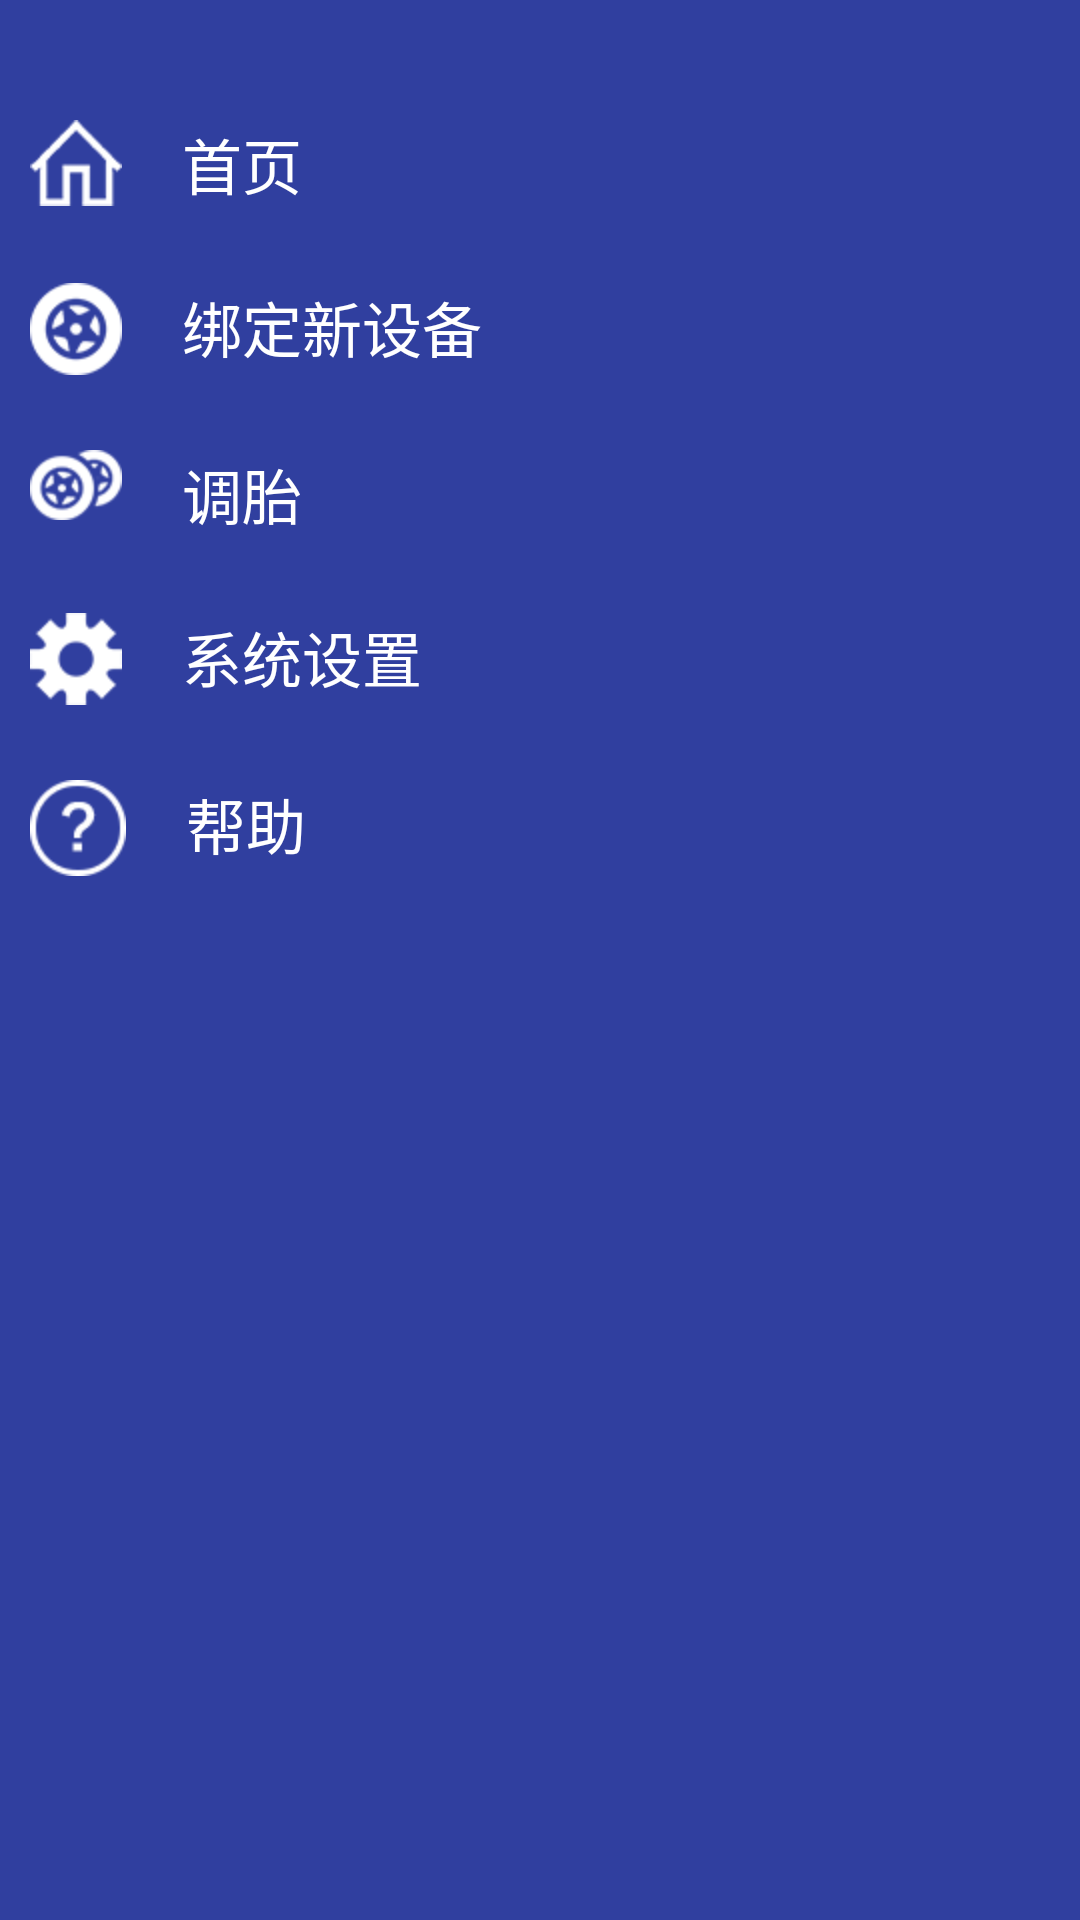

Icon click points for this 1080×1920 phone screenshot, format (x,y):
change tire: (76,485)
doubt: (78,828)
home page: (76,163)
